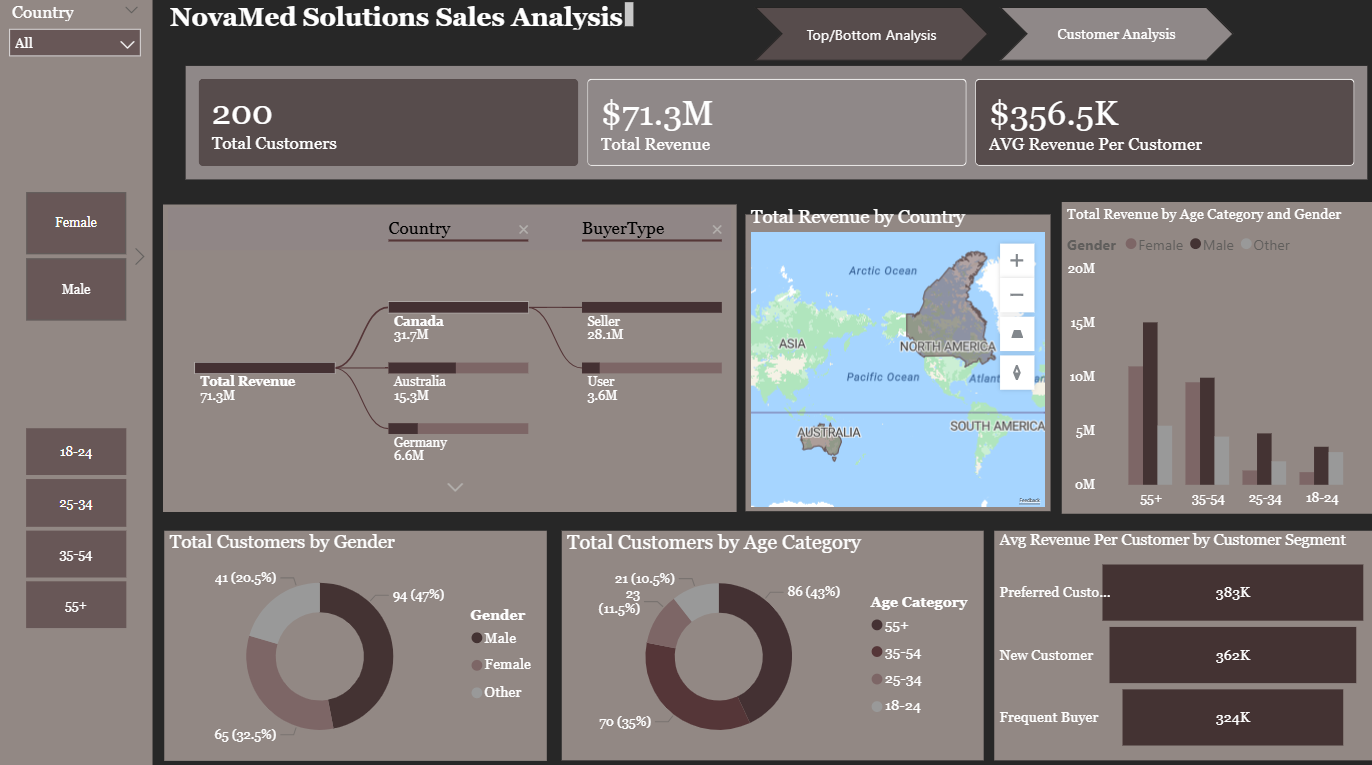

What the dashboard file says about the page in this screenshot:
{"tool":"powerbi","page":{"name":"Customer Analysis","canvas":[1280,720],"ordinal":1},"visuals":[{"type":"shape","box":[154.3,496.3,355.9,214.1],"z":0},{"type":"shape","box":[525,496.2,392.5,213.8],"z":1000},{"type":"shape","box":[990,191.2,290,290],"z":2000},{"type":"shape","box":[153.5,193,533.7,286],"z":3000},{"type":"shape","box":[926.7,496.5,353.5,214],"z":4000},{"type":"shape","box":[0,0,143.8,720],"z":5000},{"type":"textbox","box":[153.8,0,442.5,35],"z":6000},{"type":"pageNavigator","box":[703.4,9.7,446.2,50],"z":7000},{"type":"slicer","fields":{"Values":["CustomerTable.Country"]},"box":[0,0,143.2,59.8],"z":8000},{"type":"shape","box":[695,202.5,283.8,276.2],"z":9000},{"type":"azureMap","fields":{"Category":["CustomerTable.Country"]},"box":[695,193.8,283.8,285],"z":10000},{"type":"cardVisual","fields":{"Data":["MeasureTable.Total Customers","MeasureTable.Total Revenue","MeasureTable.AVG Revenue Per Customer"]},"box":[169.6,59.8,1110.7,115.4],"z":11000},{"type":"donutChart","fields":{"Y":["MeasureTable.Total Customers"],"Category":["CustomerTable.Gender"]},"box":[154.3,496.3,355.9,214.1],"z":12000},{"type":"donutChart","fields":{"Y":["MeasureTable.Total Customers"],"Category":["CustomerTable.Age Category"]},"box":[525,496.2,392.5,213.8],"z":13000},{"type":"funnel","title":"Avg Revenue Per Customer by Customer Segment","fields":{"Y":["MeasureTable.AVG Revenue Per Customer"],"Category":["CustomerTable.OtherCustomerInfo"]},"box":[926.7,496.5,353.5,214],"z":14000},{"type":"clusteredColumnChart","fields":{"Y":["MeasureTable.Total Revenue"],"Category":["CustomerTable.Age Category"],"Series":["CustomerTable.Gender"]},"box":[990,193.8,290,287.5],"z":15000},{"type":"decompositionTreeVisual","fields":{"ExplainBy":["CustomerTable.Country","FactTable.BuyerType"],"Analyze":["MeasureTable.Total Revenue"]},"box":[153.5,190.7,533.7,288.4],"z":16000},{"type":"slicer","fields":{"Values":["CustomerTable.Gender"]},"box":[0,174.4,143,133.7],"z":17000},{"type":"slicer","fields":{"Values":["CustomerTable.Age Category"]},"box":[0,394.2,143,200],"z":18000}]}

Visuals, with their boxes in screenshot pixels (x1, y1, x2, y2), scaled from the page's 1280x720 canvas onto the 1372x765 screenshot:
shape: (165,527,547,755)
shape: (563,527,983,754)
shape: (1061,203,1371,511)
shape: (165,205,737,509)
shape: (993,528,1371,755)
shape: (0,0,154,764)
textbox: (165,0,639,37)
pageNavigator: (754,10,1232,63)
slicer - CustomerTable.Country: (0,0,153,64)
shape: (745,215,1049,509)
azureMap - CustomerTable.Country: (745,206,1049,509)
cardVisual - MeasureTable.Total Customers x MeasureTable.Total Revenue: (182,64,1371,186)
donutChart - MeasureTable.Total Customers x CustomerTable.Gender: (165,527,547,755)
donutChart - MeasureTable.Total Customers x CustomerTable.Age Category: (563,527,983,754)
"Avg Revenue Per Customer by Customer Segment" funnel: (993,528,1371,755)
clusteredColumnChart - MeasureTable.Total Revenue x CustomerTable.Age Category: (1061,206,1371,511)
decompositionTreeVisual - CustomerTable.Country x FactTable.BuyerType: (165,203,737,509)
slicer - CustomerTable.Gender: (0,185,153,327)
slicer - CustomerTable.Age Category: (0,419,153,631)
